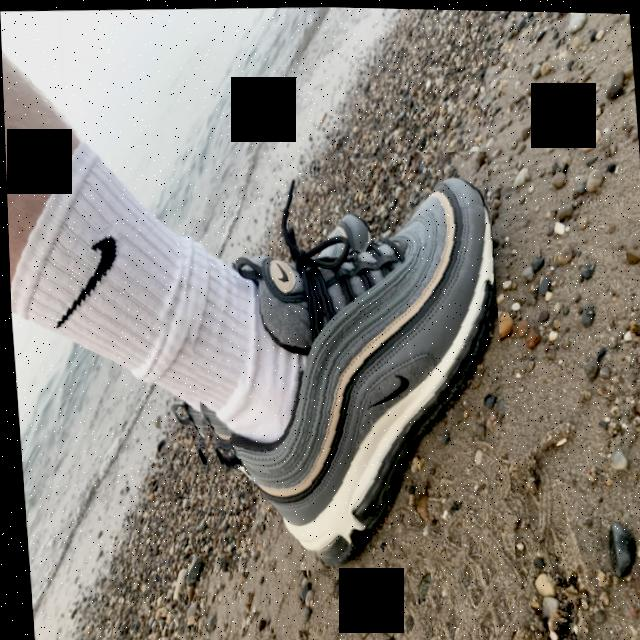shoe: (165, 143, 512, 577)
